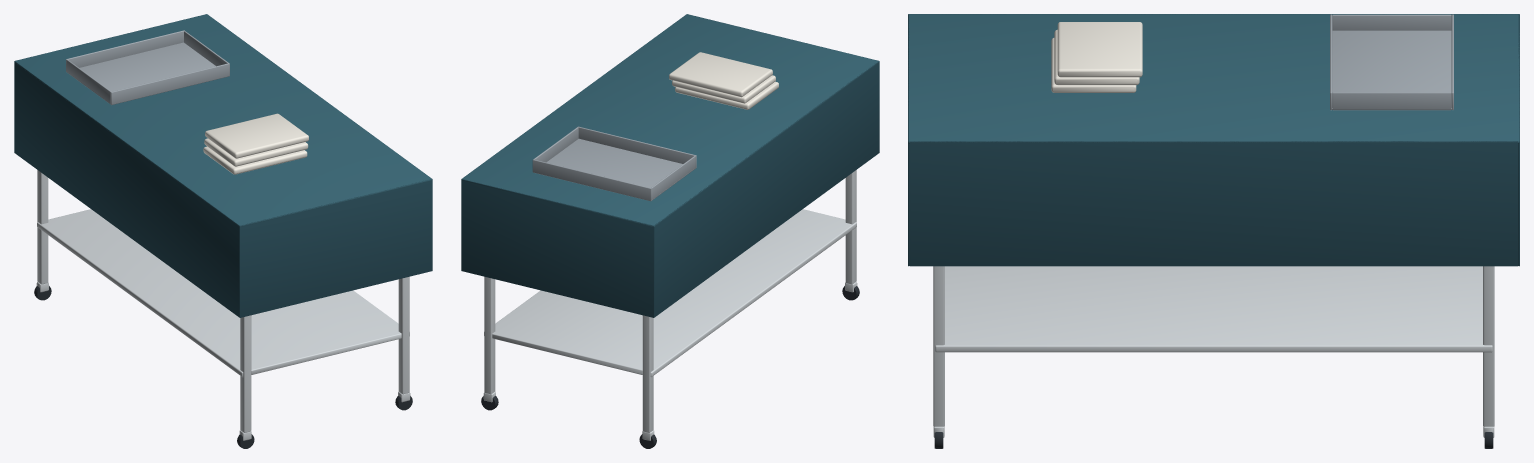
Rendered from env_back_table.glb.
The picture shows the model from 3 angles, left to right: view 1: azimuth 30°, elevation 25°; view 2: azimuth 150°, elevation 25°; view 3: azimuth 270°, elevation 25°; orthographic projection. The views are drawn at different scales.
Parts seen in each view (by area): view 1: env_back_table; view 2: env_back_table; view 3: env_back_table.
Boxes of the visible parts, left/top/right/bottom form: env_back_table: left=14, top=14, right=432, bottom=448; env_back_table: left=461, top=14, right=879, bottom=448; env_back_table: left=908, top=14, right=1519, bottom=448.
Size of the model in its own units: 0.7803 by 0.9819 by 1.58.
